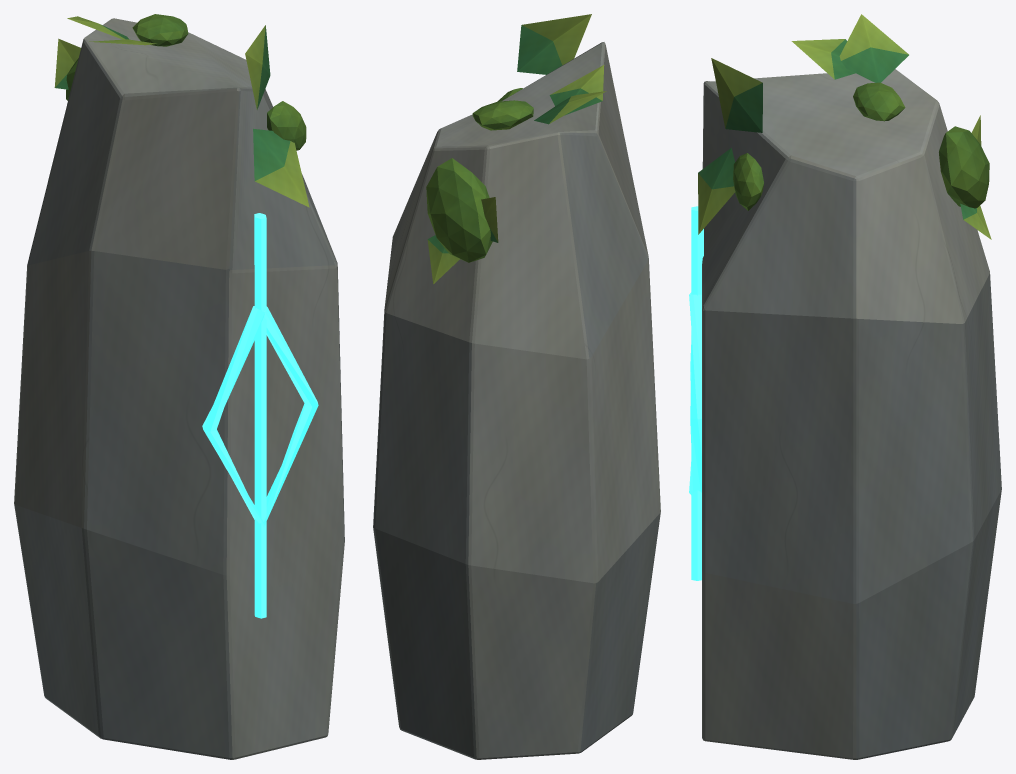
Rendered from forest_rune_monolith.glb.
3 views of the same model, side by side, from view 1: azimuth 30°, elevation 25°; view 2: azimuth 150°, elevation 25°; view 3: azimuth 270°, elevation 25° (orthographic). The views are drawn at different scales.
Parts seen in each view (by area): view 1: Weathered shrine monolith, Glowing diamond rune, Rune vertical stroke, Woodland shared curved ivy leaf.103, Woodland shared moss cushion.038, Woodland shared moss cushion.036, Woodland shared curved ivy leaf.104, Woodland shared curved ivy leaf.105; view 2: Weathered shrine monolith, Woodland shared moss cushion.037, Woodland shared curved ivy leaf.104, Woodland shared moss cushion.038, Woodland shared curved ivy leaf.107, Woodland shared curved ivy leaf.106, Woodland shared curved ivy leaf.108, Woodland shared curved ivy leaf.105; view 3: Weathered shrine monolith, Woodland shared moss cushion.037, Woodland shared curved ivy leaf.108, Woodland shared curved ivy leaf.104, Glowing diamond rune, Woodland shared curved ivy leaf.103, Rune vertical stroke, Woodland shared moss cushion.038, Woodland shared moss cushion.036, Woodland shared curved ivy leaf.107, Woodland shared curved ivy leaf.106.
Part boxes in pixels (<box>): Weathered shrine monolith: <box>14,18,344,759</box>; Glowing diamond rune: <box>202,306,318,527</box>; Rune vertical stroke: <box>254,213,266,618</box>; Woodland shared curved ivy leaf.103: <box>253,128,309,207</box>; Woodland shared moss cushion.038: <box>132,14,188,46</box>; Woodland shared moss cushion.036: <box>267,101,306,150</box>; Woodland shared curved ivy leaf.104: <box>245,25,270,109</box>; Woodland shared curved ivy leaf.105: <box>54,38,80,89</box>; Weathered shrine monolith: <box>373,42,660,759</box>; Woodland shared moss cushion.037: <box>426,158,492,262</box>; Woodland shared curved ivy leaf.104: <box>517,14,591,74</box>; Woodland shared moss cushion.038: <box>472,100,533,130</box>; Woodland shared curved ivy leaf.107: <box>549,65,604,115</box>; Woodland shared curved ivy leaf.106: <box>427,235,459,283</box>; Woodland shared curved ivy leaf.108: <box>534,91,606,124</box>; Woodland shared curved ivy leaf.105: <box>481,197,498,242</box>; Weathered shrine monolith: <box>702,69,1001,759</box>; Woodland shared moss cushion.037: <box>939,126,989,208</box>; Woodland shared curved ivy leaf.108: <box>839,14,908,82</box>; Woodland shared curved ivy leaf.104: <box>711,58,762,132</box>; Glowing diamond rune: <box>689,292,701,494</box>; Woodland shared curved ivy leaf.103: <box>698,148,735,234</box>; Rune vertical stroke: <box>691,206,703,580</box>; Woodland shared moss cushion.038: <box>853,82,905,121</box>; Woodland shared moss cushion.036: <box>733,153,763,210</box>; Woodland shared curved ivy leaf.107: <box>791,39,855,79</box>; Woodland shared curved ivy leaf.106: <box>960,203,991,239</box>.
Size of the model in its own units: 0.7015 by 1.76 by 0.7709.
Materials: 6 (5 with a texture image).
